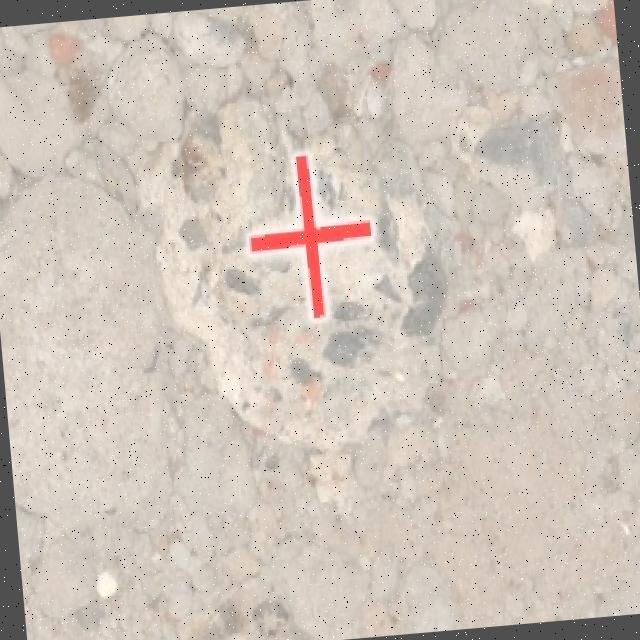x_marker: (240, 148, 378, 322)
